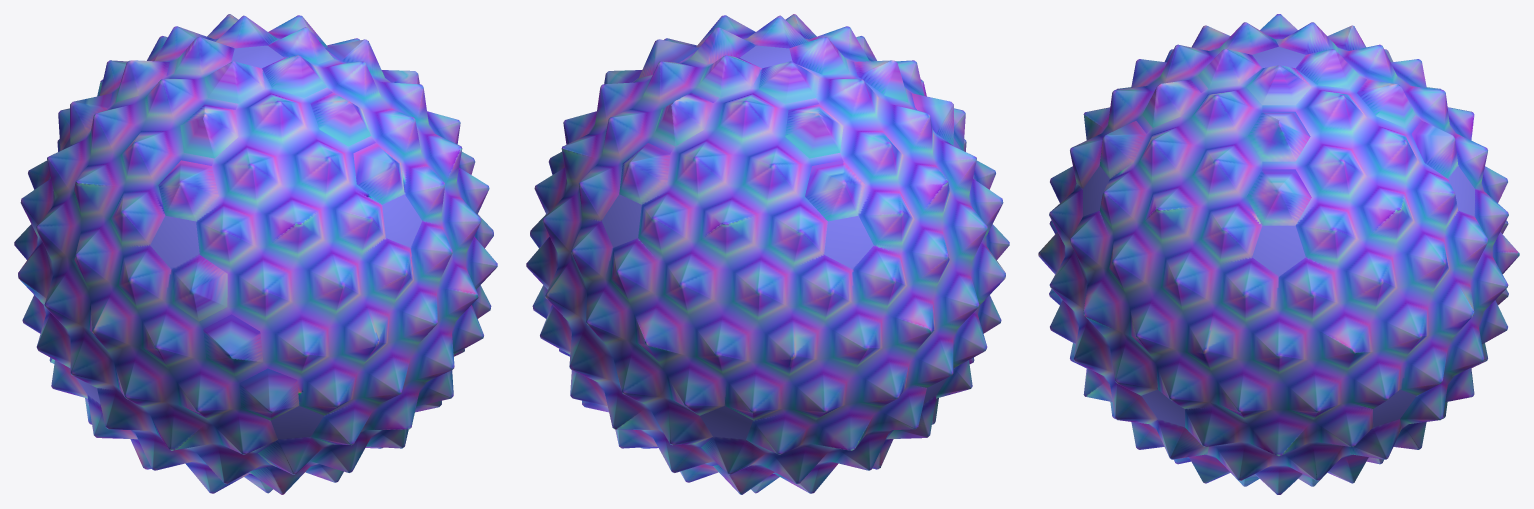
File: Pollen 1.fbx
The picture shows the model from 3 angles, left to right: view 1: azimuth 30°, elevation 25°; view 2: azimuth 150°, elevation 25°; view 3: azimuth 270°, elevation 25°; orthographic projection.
Parts seen in each view (by area): view 1: Icosphere.008; view 2: Icosphere.008; view 3: Icosphere.008.
Boxes of the visible parts, x1=… form: Icosphere.008: x1=14, y1=14, x2=497, y2=494; Icosphere.008: x1=526, y1=14, x2=1009, y2=494; Icosphere.008: x1=1038, y1=14, x2=1519, y2=494.
Bounding box in the file's own units: 233 × 227 × 233.
1 material, 1 textured.
